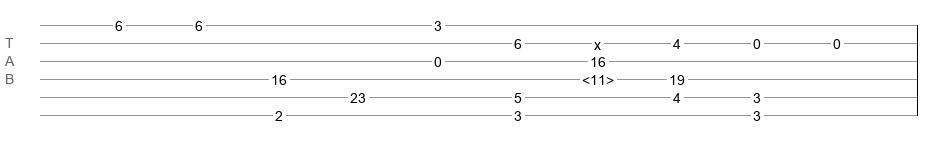0: (434, 54, 442, 64), (753, 36, 761, 46), (833, 36, 841, 46)
16: (271, 72, 287, 82), (590, 54, 606, 64)
19: (669, 72, 685, 82)
2: (275, 108, 283, 118)
23: (350, 90, 366, 100)
3: (434, 18, 442, 28), (514, 108, 522, 118), (753, 90, 761, 100), (753, 108, 761, 118)
4: (673, 90, 681, 100), (673, 36, 681, 46)
5: (514, 90, 522, 100)
6: (115, 18, 123, 28), (195, 18, 203, 28), (514, 36, 522, 46)
harmonic: (582, 72, 614, 82)
x: (594, 37, 601, 45)
